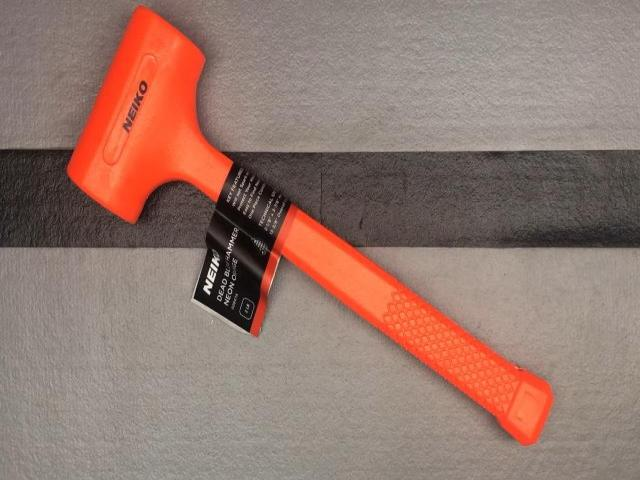hammer: (67, 5, 554, 446)
